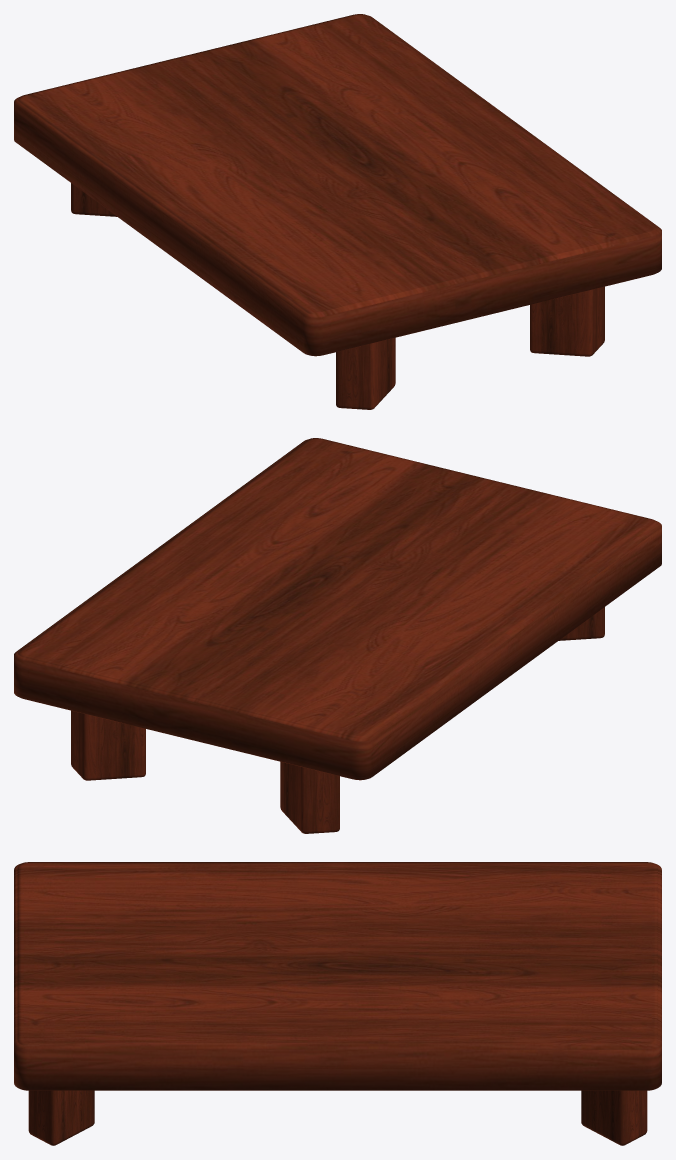
File: Table.fbx
The picture shows the model from 3 angles, top to bottom: view 1: azimuth 30°, elevation 25°; view 2: azimuth 150°, elevation 25°; view 3: azimuth 270°, elevation 25°; orthographic projection. The views are drawn at different scales.
Visible parts, largest first — view 1: Table; view 2: Table; view 3: Table.
Boxes of the visible parts, x1,y1,x2,y2 form: Table: [14, 14, 661, 409]; Table: [14, 438, 661, 833]; Table: [14, 862, 661, 1145].
Size of the model in its own units: 17.68 by 25.89 by 5.46.
1 material, 1 textured.
